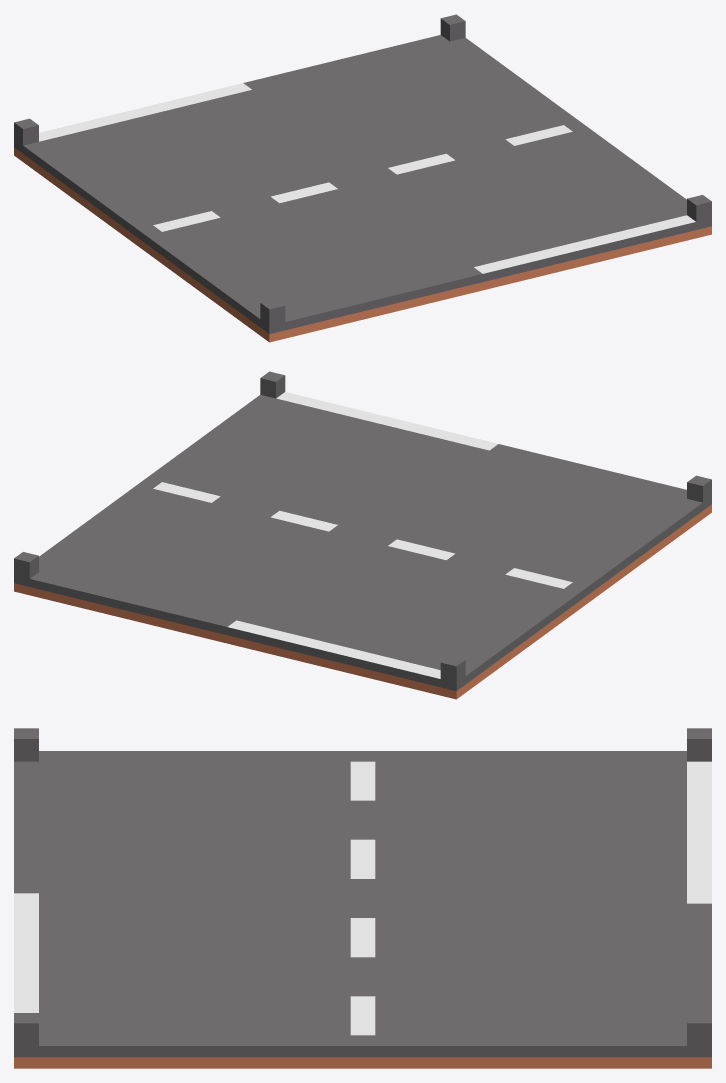
The model's file is RoadCrossroad.fbx.
3 views of the same model, one above another, from view 1: azimuth 30°, elevation 25°; view 2: azimuth 150°, elevation 25°; view 3: azimuth 270°, elevation 25° (orthographic). The views are drawn at different scales.
Visible parts, largest first — view 1: Soil; view 2: Soil; view 3: Soil.
Part boxes in pixels (left/top/right/bottom): Soil: left=14, top=14, right=711, bottom=342; Soil: left=14, top=371, right=711, bottom=699; Soil: left=14, top=728, right=711, bottom=1068.
Size of the model in its own units: 560 by 560 by 40.
